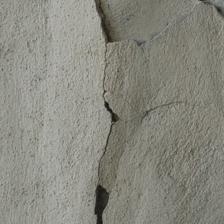Crack: (0, 0, 59, 73), (70, 79, 134, 144), (34, 78, 95, 136), (2, 0, 41, 73), (12, 62, 52, 109)
